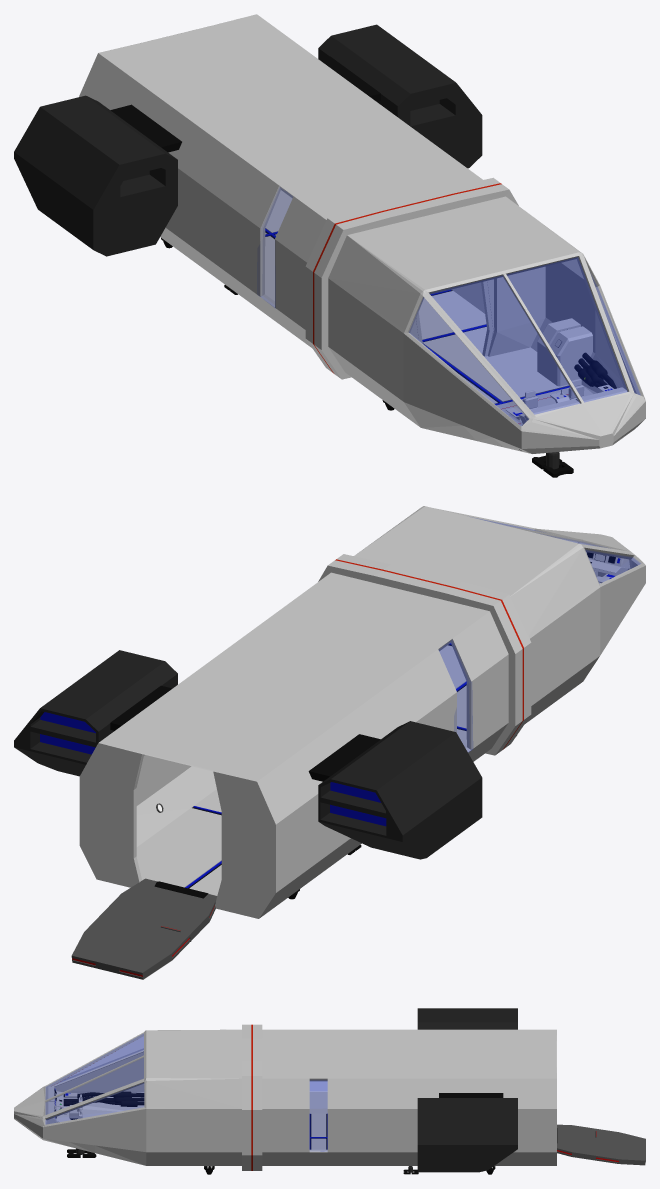
File: nave_astro.obj
The picture shows the model from 3 angles, top to bottom: view 1: azimuth 30°, elevation 25°; view 2: azimuth 150°, elevation 25°; view 3: azimuth 270°, elevation 25°; orthographic projection. The views are drawn at different scales.
Parts seen in each view (by area): view 1: nave; view 2: nave; view 3: nave.
Part boxes in pixels (bbox=[...]): nave: bbox=[14, 14, 645, 477]; nave: bbox=[14, 506, 645, 979]; nave: bbox=[14, 1008, 645, 1174].
Size of the model in its own units: 9.2 by 3.78 by 20.44.
